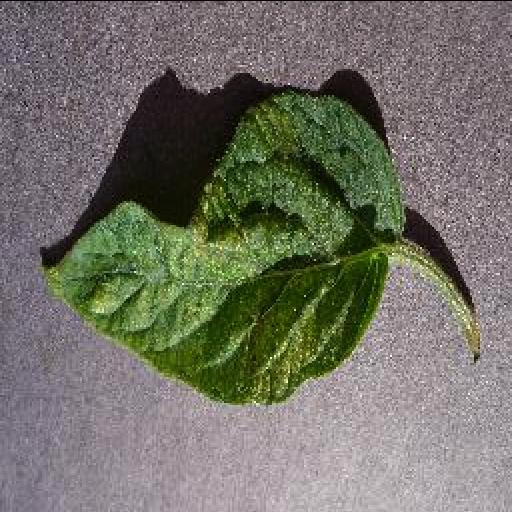disease_tomato: (44, 91, 406, 405)
